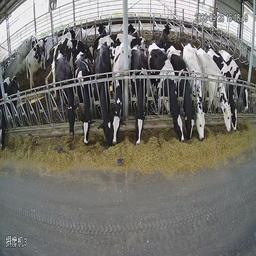cow: (148, 41, 183, 143), (205, 45, 233, 130), (94, 45, 114, 146), (54, 55, 76, 135), (115, 41, 131, 145), (132, 43, 148, 147), (195, 43, 211, 138), (76, 50, 92, 143), (182, 42, 196, 138), (29, 36, 51, 88), (237, 58, 253, 114), (232, 67, 243, 137)
